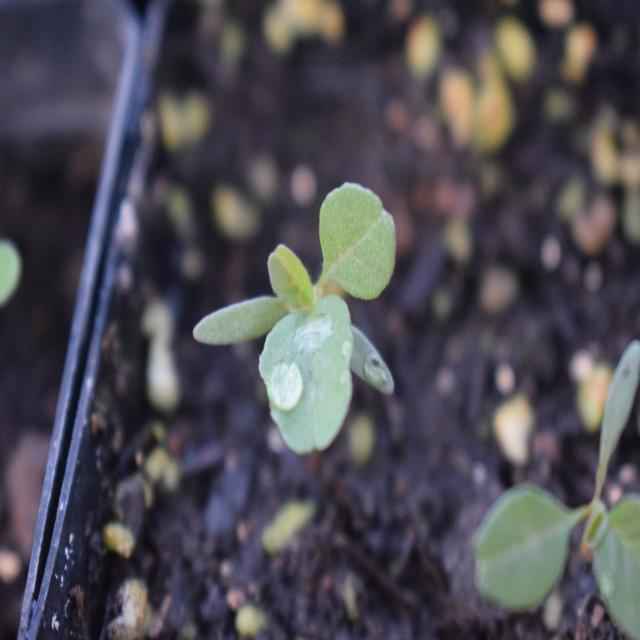pigweed: (190, 162, 422, 454)
